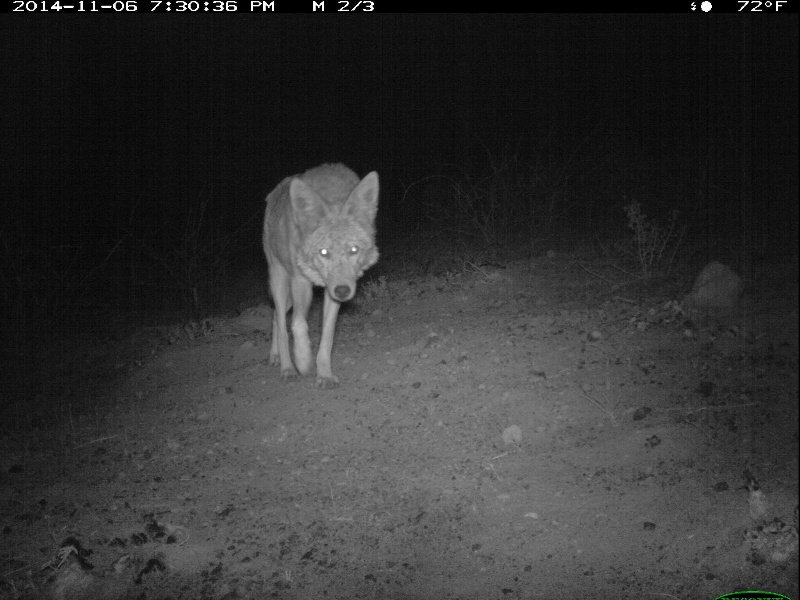coyote: (255, 155, 386, 391)
